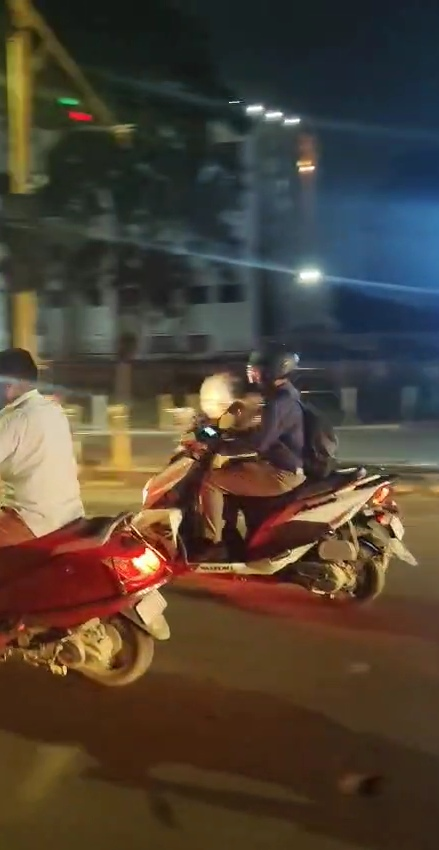BikeWithRider: (104, 340, 425, 625)
Helmet: (238, 338, 308, 392)
